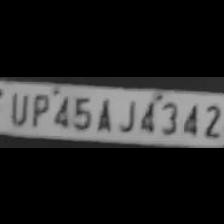2: (198, 99, 222, 137)
3: (156, 97, 178, 135)
4: (178, 99, 200, 136), (136, 96, 158, 132), (50, 90, 70, 128)
5: (69, 92, 93, 130)
A: (94, 93, 114, 131)
J: (114, 94, 136, 132)
P: (28, 90, 48, 127)
U: (5, 89, 29, 126)
